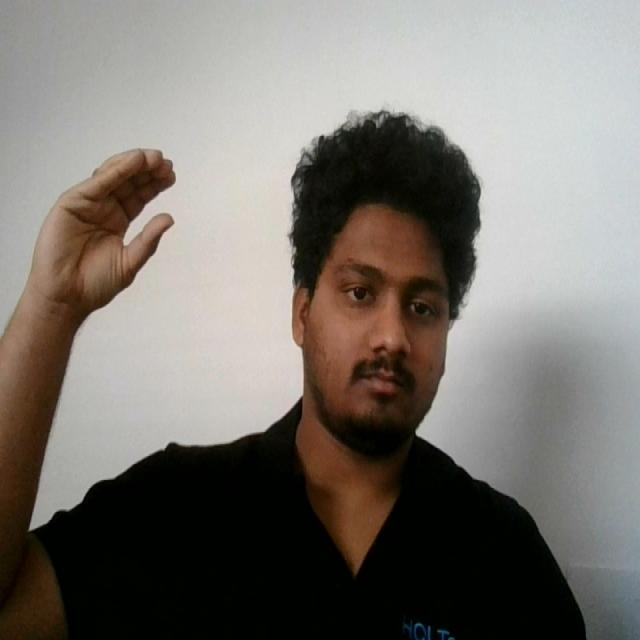No: (19, 134, 182, 329)
